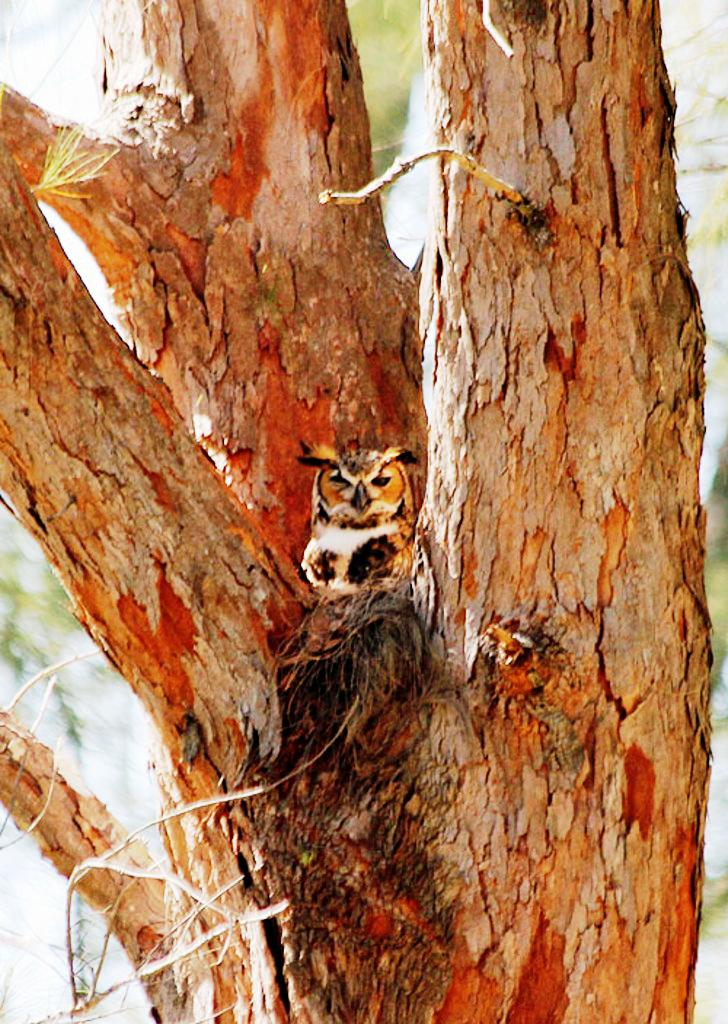Owl: (297, 434, 424, 593)
